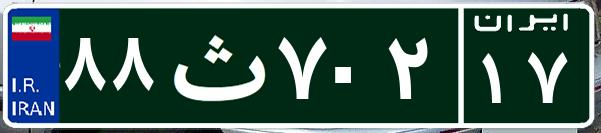0: (330, 28, 385, 110)
1: (475, 38, 525, 113)
2: (385, 28, 445, 110)
7: (273, 28, 330, 110), (525, 38, 570, 115)
8: (57, 26, 110, 107), (110, 28, 158, 105)
ث: (158, 15, 273, 115)
